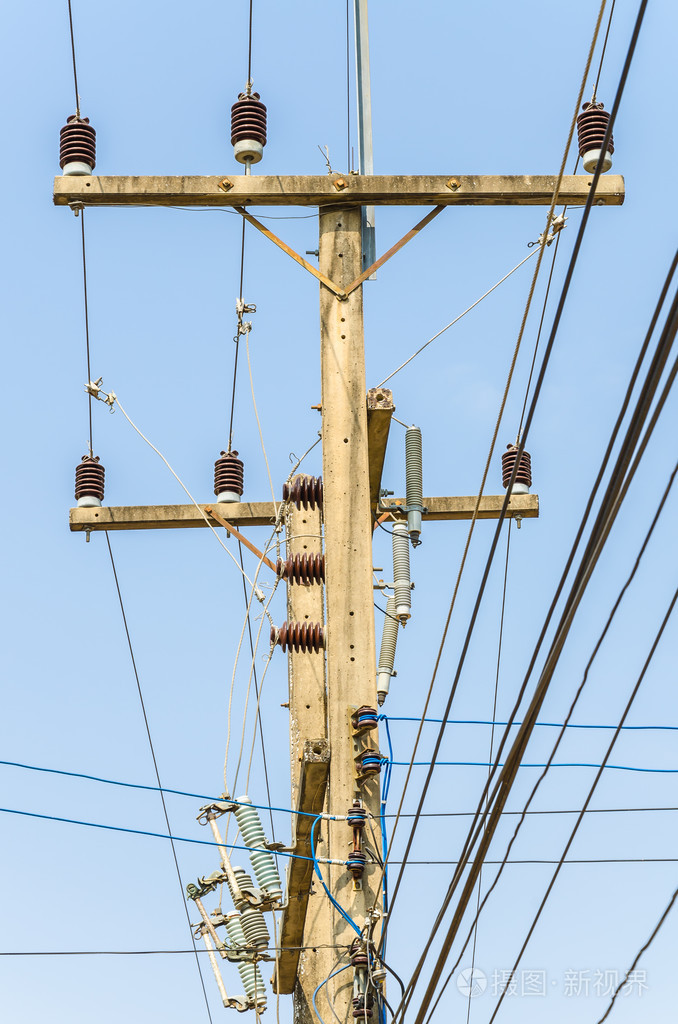insulator: (569, 108, 617, 164), (227, 88, 269, 147), (53, 123, 100, 170), (208, 454, 250, 498), (494, 448, 533, 494), (70, 459, 111, 500)
